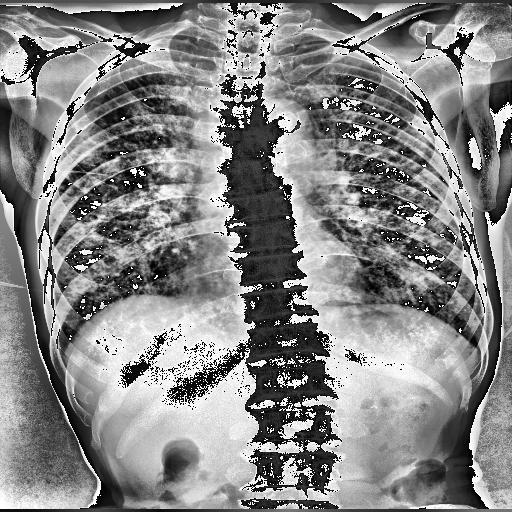0- Aortic enlargement: (254, 93, 315, 167), (254, 95, 312, 164), (258, 98, 314, 148)
5- ILD: (298, 45, 484, 343), (270, 48, 468, 322), (286, 63, 478, 332), (44, 42, 198, 341), (46, 42, 204, 332), (60, 42, 212, 328)
6- Infiltration: (270, 48, 468, 322), (286, 63, 478, 332), (46, 42, 204, 332), (60, 42, 212, 328)
